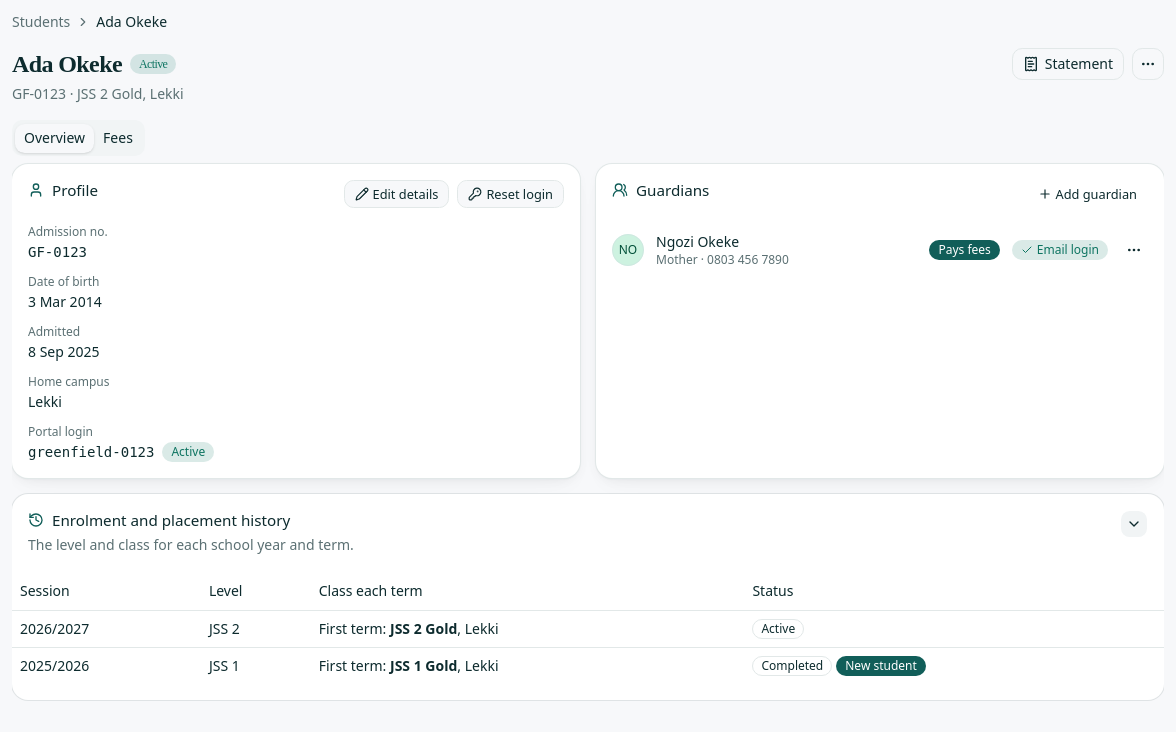
StudentPage Fees tab › shows Reduced only when something was reduced
Click the tab "Fees". click: point(118, 138)
box: [94, 124, 142, 152]
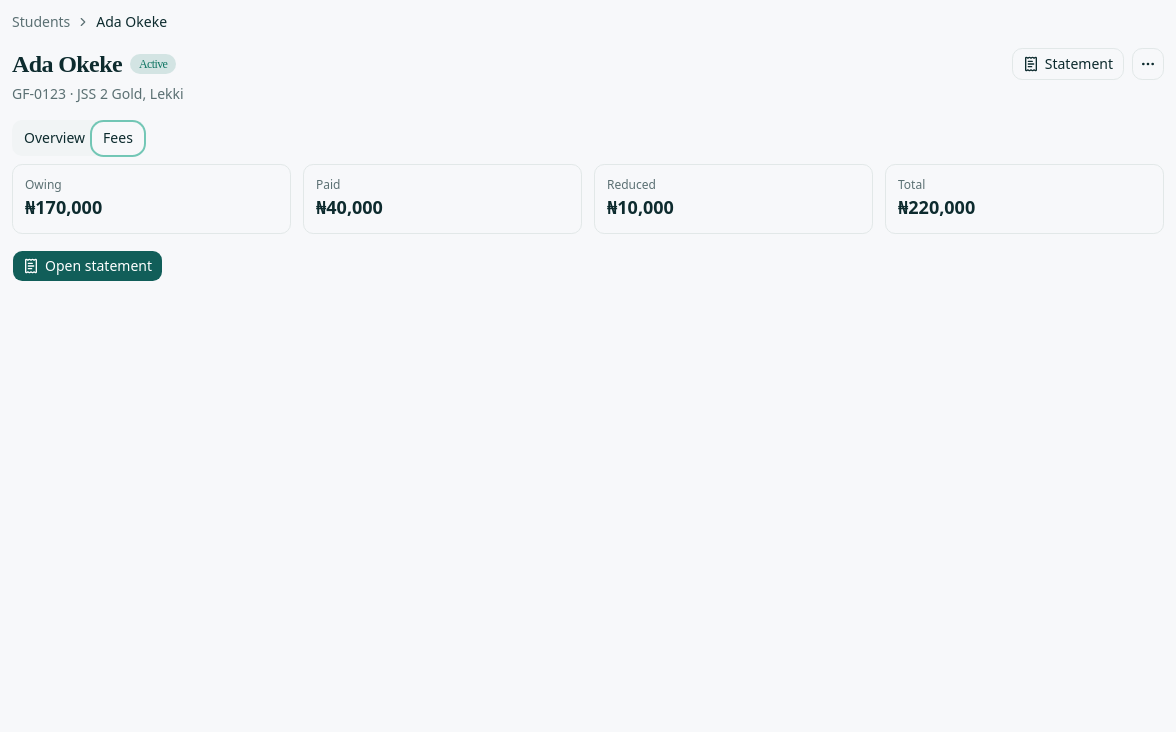
Expected: the text "Reduced" is shown, [607, 176, 656, 193]
Expected: the text "₦10,000" is shown, [607, 195, 674, 219]
